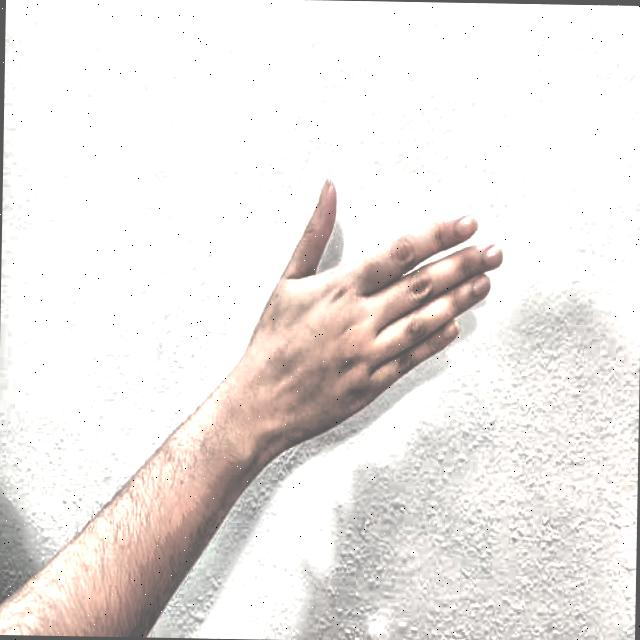Aa: (237, 123, 529, 490)
